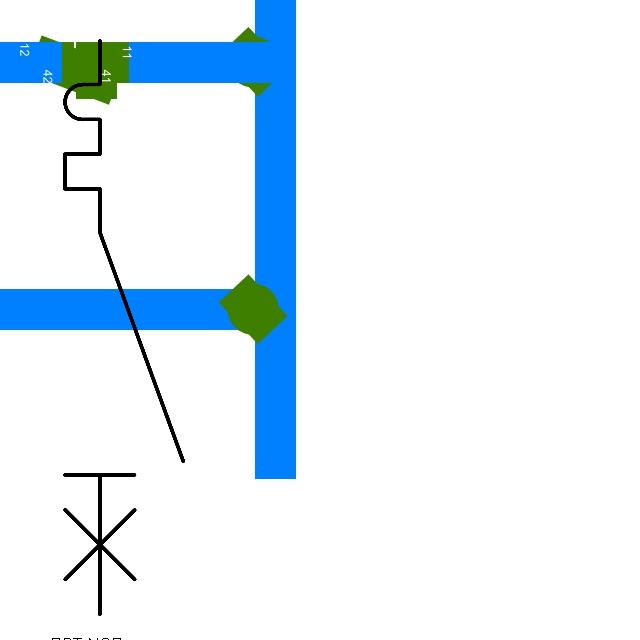interruptor_termomagnetico: (50, 26, 197, 629)
